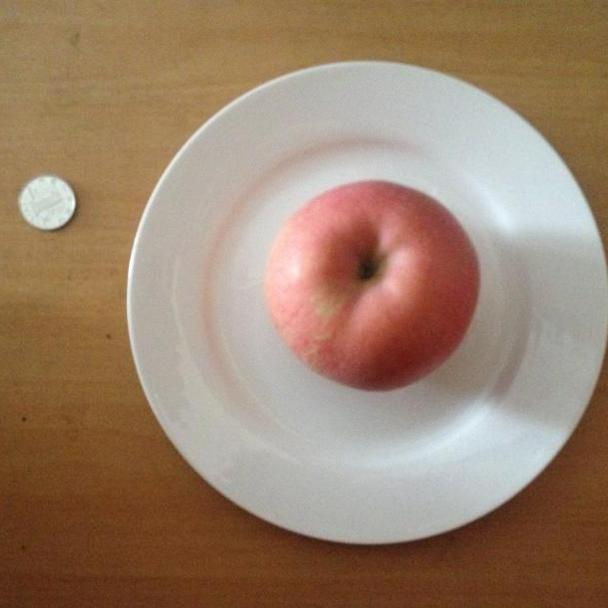apple: (262, 177, 486, 393)
